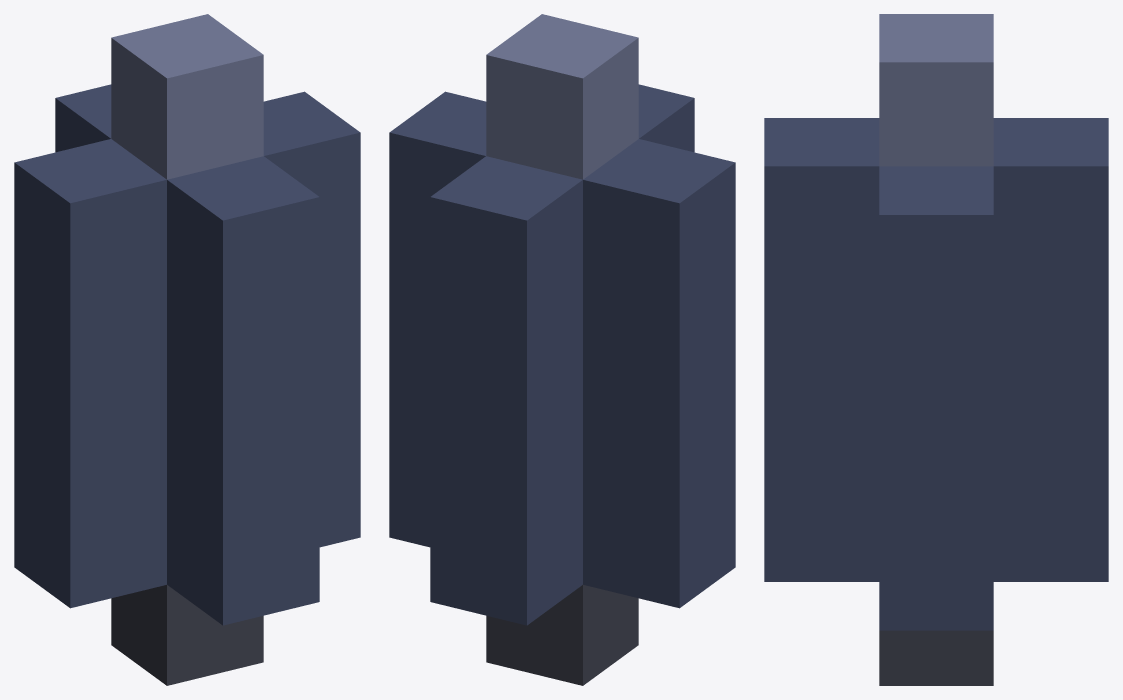
File: dungeon_meshes.gltf
The picture shows the model from 3 angles, left to right: view 1: azimuth 30°, elevation 25°; view 2: azimuth 150°, elevation 25°; view 3: azimuth 270°, elevation 25°; orthographic projection. The views are drawn at different scales.
Parts seen in each view (by area): view 1: SouthernWall, WesternWall, EasternWall, Ceiling, Floor, NorthernWall; view 2: NorthernWall, WesternWall, EasternWall, Ceiling, Floor, SouthernWall; view 3: NorthernWall, SouthernWall, EasternWall, Ceiling, Floor.
Part boxes in pixels (x1=…): SouthernWall: x1=167, y1=156, x2=319, y2=625; WesternWall: x1=14, y1=139, x2=166, y2=608; EasternWall: x1=263, y1=91, x2=360, y2=547; Ceiling: x1=111, y1=14, x2=263, y2=179; Floor: x1=111, y1=585, x2=263, y2=685; NorthernWall: x1=55, y1=84, x2=111, y2=152; NorthernWall: x1=430, y1=156, x2=582, y2=625; WesternWall: x1=583, y1=139, x2=735, y2=608; EasternWall: x1=389, y1=91, x2=486, y2=547; Ceiling: x1=486, y1=14, x2=638, y2=179; Floor: x1=486, y1=585, x2=638, y2=685; SouthernWall: x1=638, y1=84, x2=694, y2=152; NorthernWall: x1=993, y1=118, x2=1108, y2=581; SouthernWall: x1=764, y1=118, x2=879, y2=581; EasternWall: x1=879, y1=166, x2=993, y2=630; Ceiling: x1=879, y1=14, x2=993, y2=166; Floor: x1=879, y1=630, x2=993, y2=685.
Size of the model in its own units: 3 by 6 by 3.
